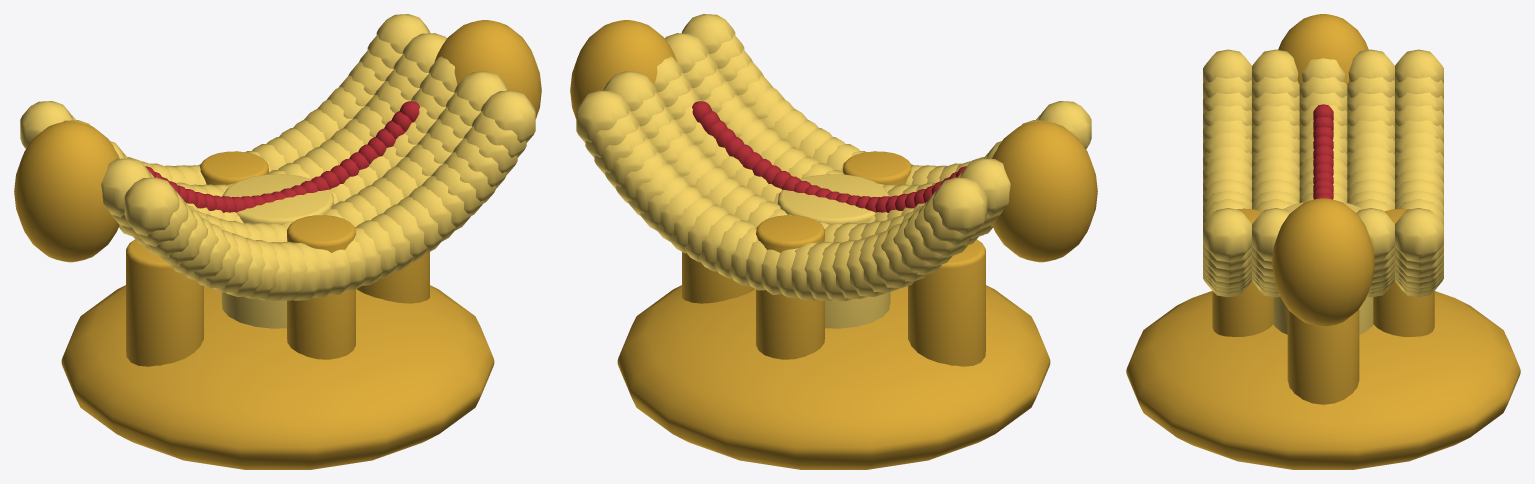
File: golden_stool.glb
3 views of the same model, side by side, from view 1: azimuth 30°, elevation 25°; view 2: azimuth 150°, elevation 25°; view 3: azimuth 270°, elevation 25° (orthographic). The views are drawn at different scales.
Parts seen in each view (by area): view 1: golden_stool; view 2: golden_stool; view 3: golden_stool.
Boxes of the visible parts, x1,y1,x2,y2 form: golden_stool: (14,14,541,469); golden_stool: (570,14,1097,469); golden_stool: (1126,14,1520,469).
Size of the model in its own units: 1.36 by 0.879 by 0.9944.
